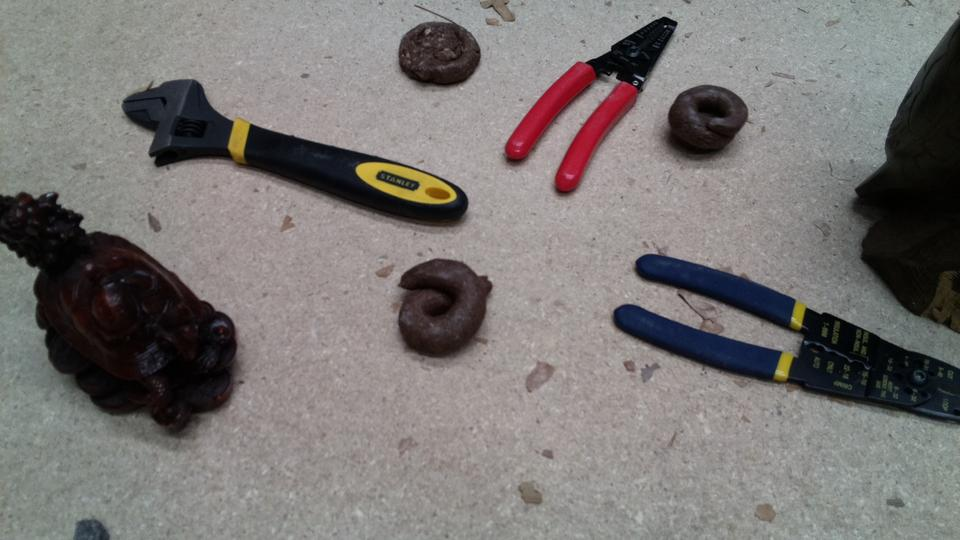poop: (395, 255, 494, 361), (663, 82, 749, 161), (393, 19, 482, 87)
